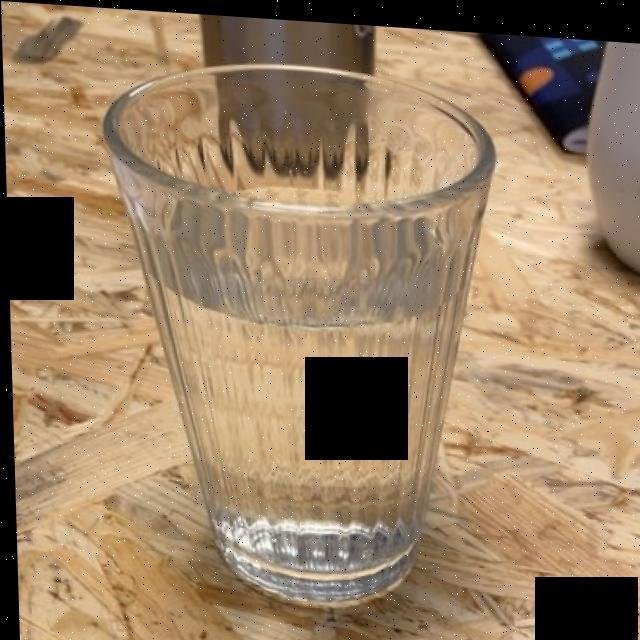water: (128, 104, 472, 578)
